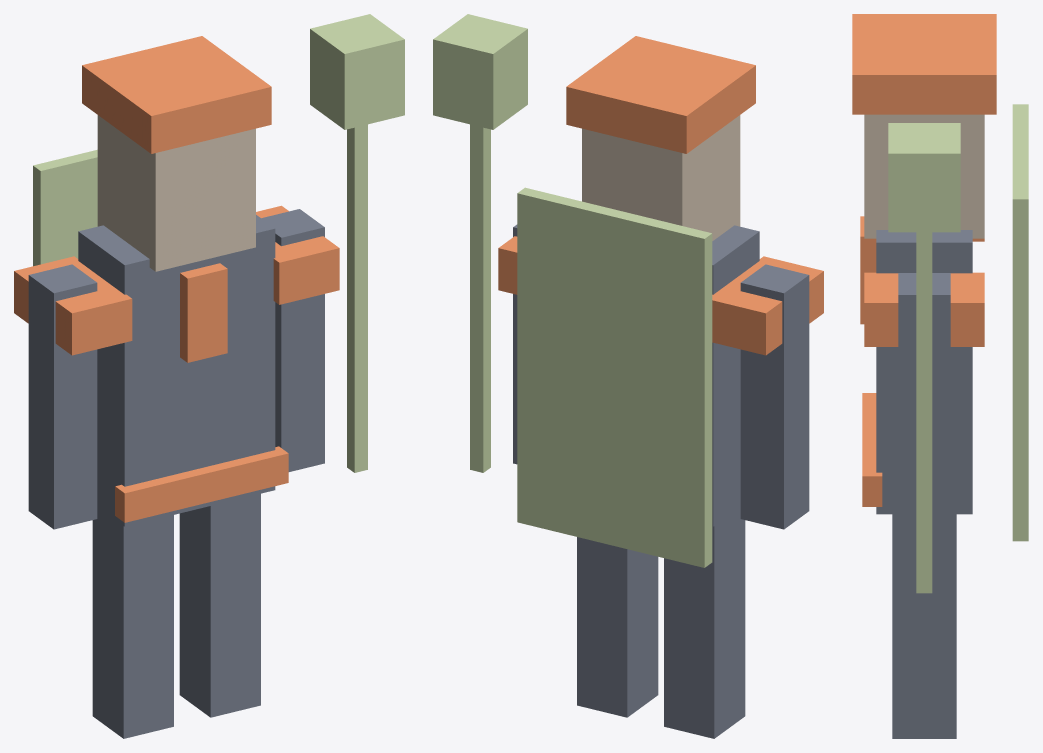
File: 18_edda_cragwarden_scout_under_defense.glb
The picture shows the model from 3 angles, left to right: view 1: azimuth 30°, elevation 25°; view 2: azimuth 150°, elevation 25°; view 3: azimuth 270°, elevation 25°; orthographic projection. The views are drawn at different scales.
Parts seen in each view (by area): view 1: Edda Cragwarden, Scout under Defense; view 2: Edda Cragwarden, Scout under Defense; view 3: Edda Cragwarden, Scout under Defense.
Boxes of the visible parts, x1,y1,x2,y2 form: Edda Cragwarden, Scout under Defense: (14,14,404,738); Edda Cragwarden, Scout under Defense: (433,14,823,738); Edda Cragwarden, Scout under Defense: (852,14,1028,738).
Bounding box in the file's own units: 0.9722 × 1.7 × 0.4133.
